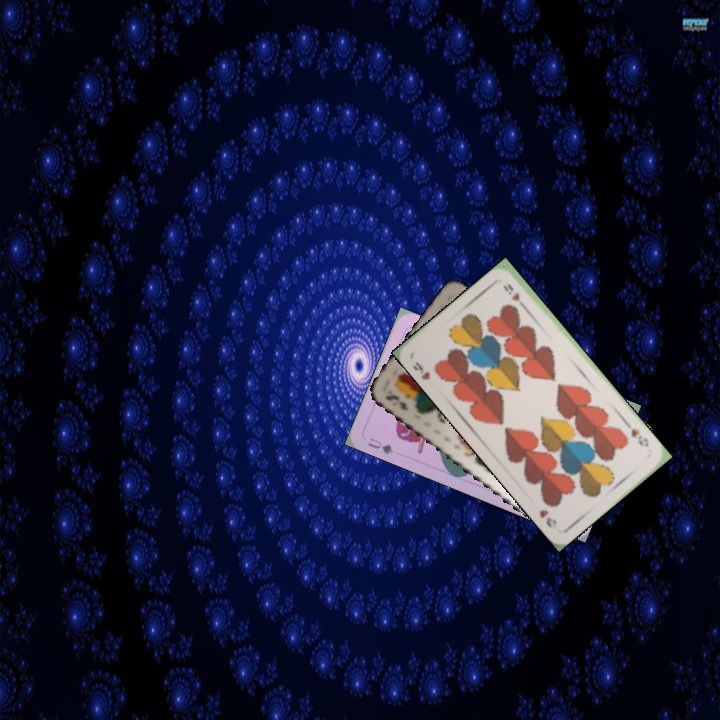EK: (381, 385, 411, 413)
GU: (364, 433, 396, 457)
H9: (623, 420, 651, 450), (408, 357, 433, 383)
